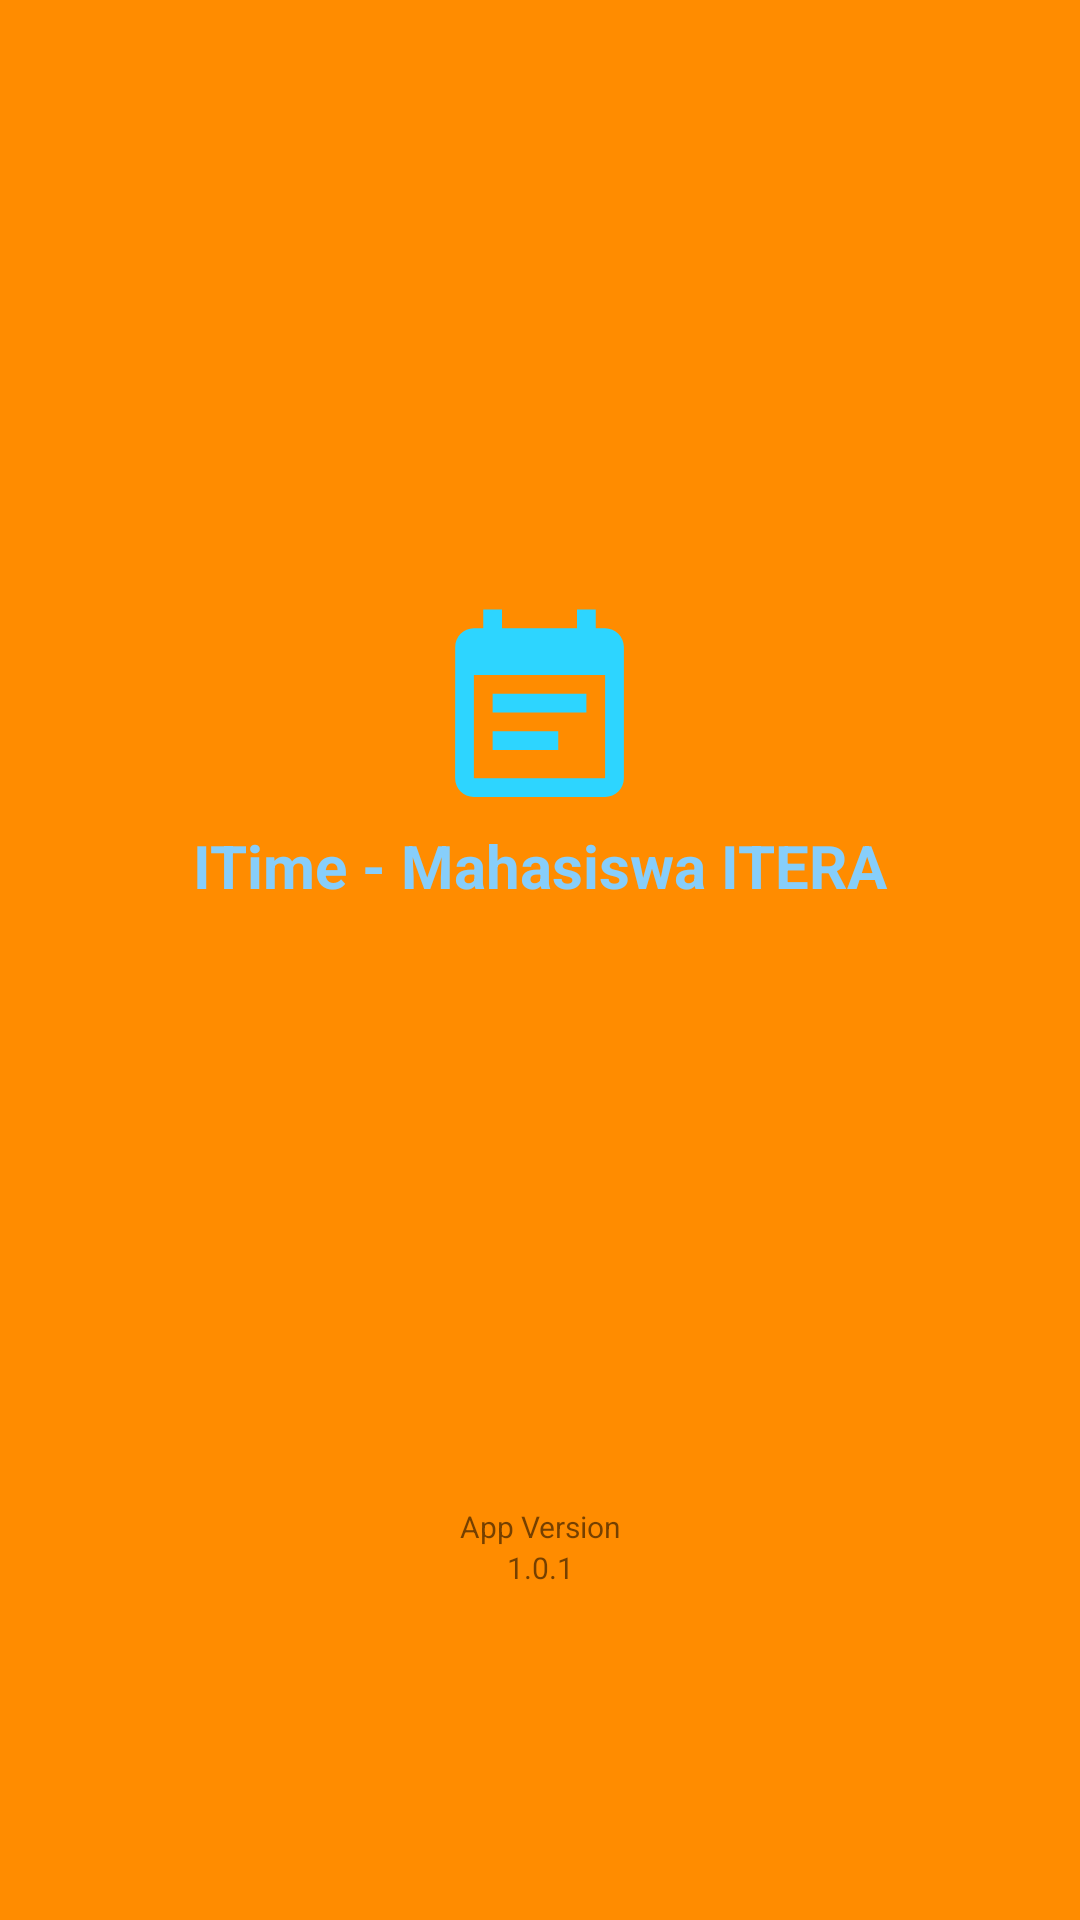

Where to tap for icons on this 1080x1920 app screen, as (x,y):
event note: (539,703)
